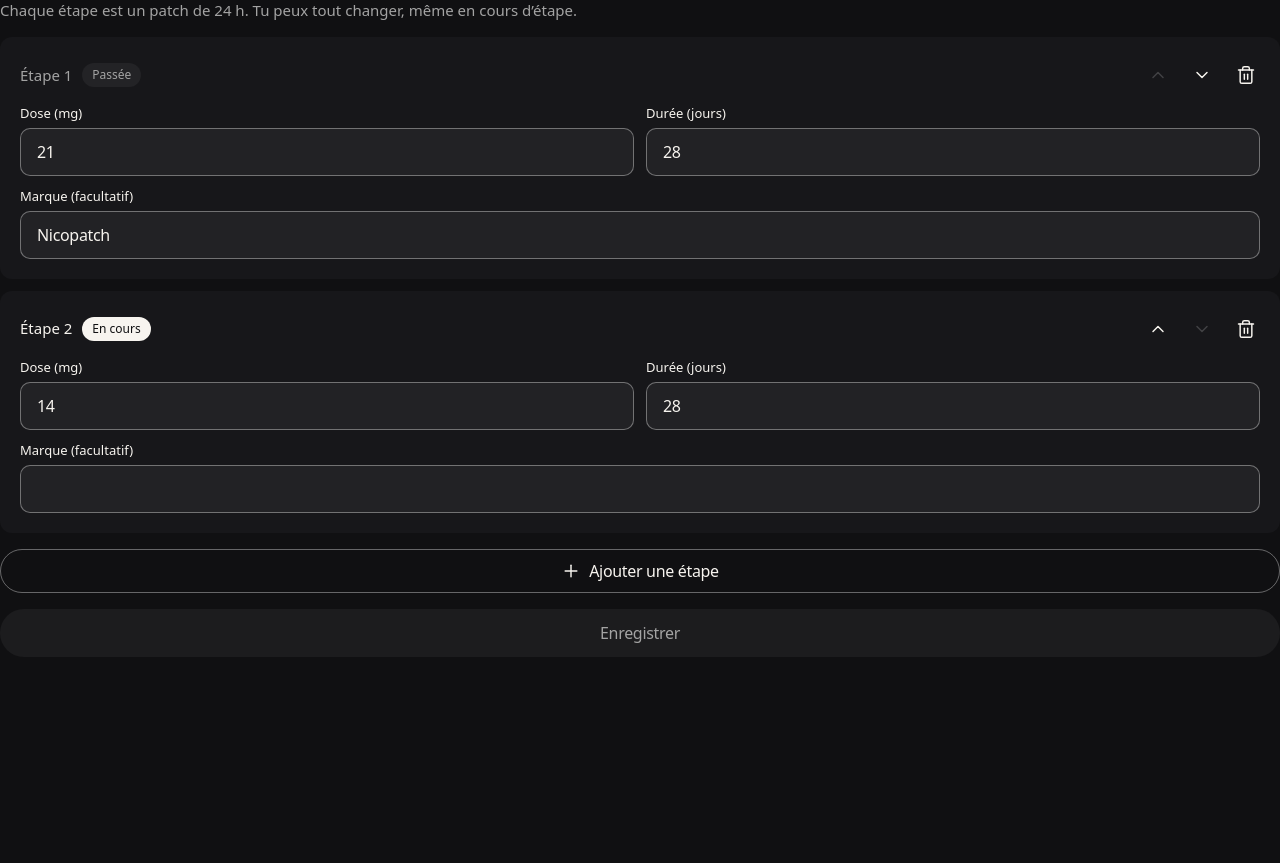
wakes save on an added step and puts it back to sleep once it is removed
The image size is (1280, 863).
Click the button "Ajouter une étape" at point(640, 571), box [0,549,1279,593]
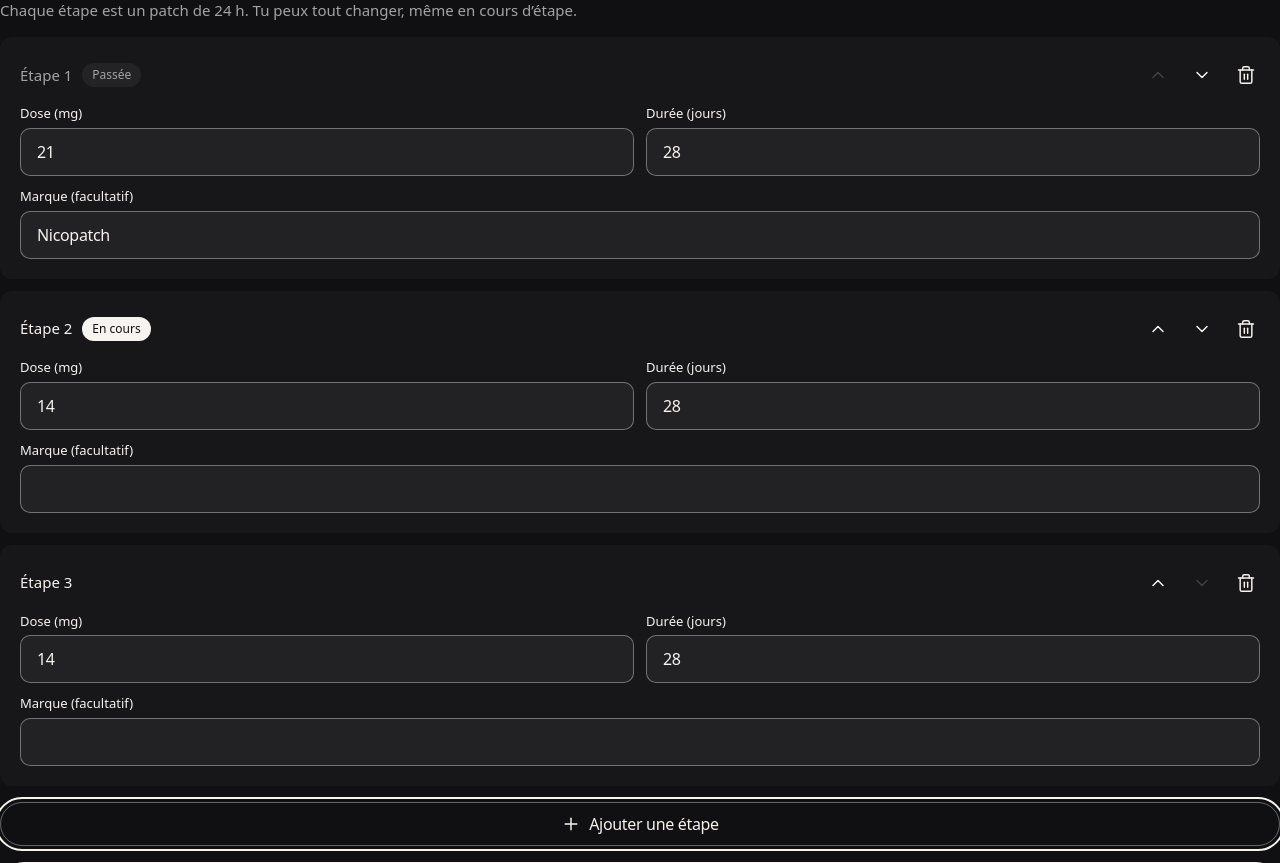
Click the button named "Supprimer l’étape 3" at point(1246, 583), box [1224,561,1268,605]
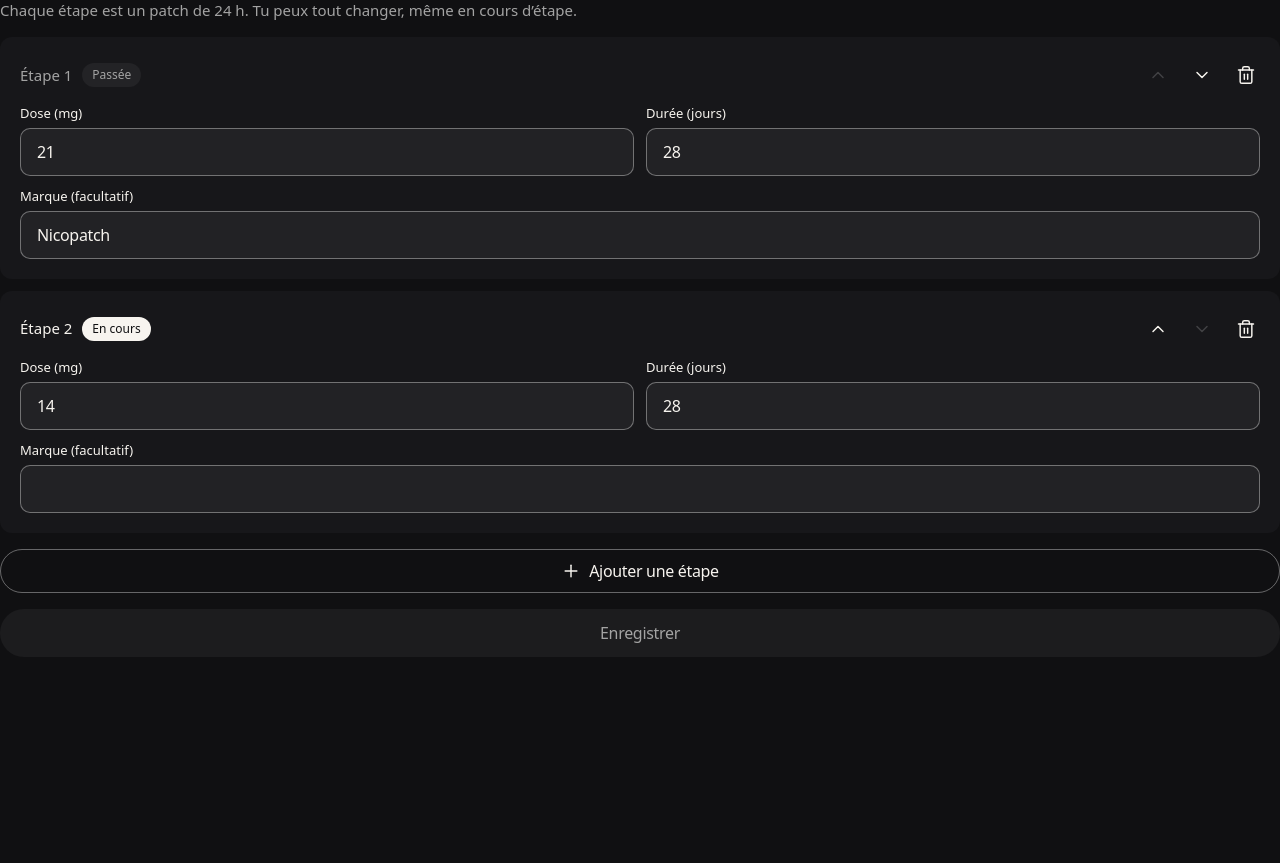
Result: the button "Enregistrer" is disabled at [0,609,1279,657]
